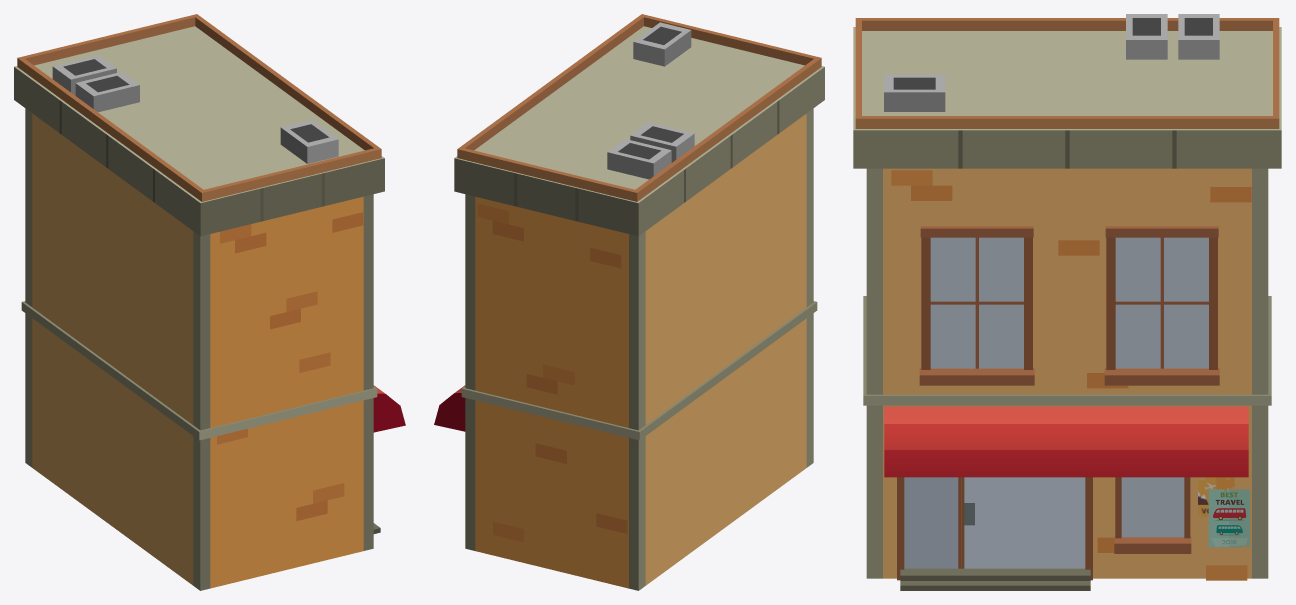
The model's file is building06.FBX.
3 views of the same model, side by side, from view 1: azimuth 30°, elevation 25°; view 2: azimuth 150°, elevation 25°; view 3: azimuth 270°, elevation 25° (orthographic). The views are drawn at different scales.
Parts seen in each view (by area): view 1: building06; view 2: building06; view 3: building06.
Boxes of the visible parts, x1,y1,x2,y2 form: building06: (14, 14, 405, 590); building06: (434, 14, 824, 590); building06: (853, 14, 1281, 590).
Size of the model in its own units: 253 by 454 by 373.
